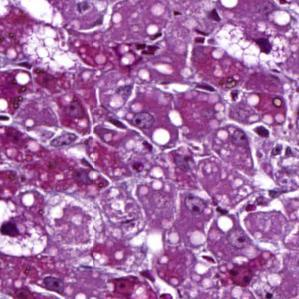ballooning: (213, 18, 293, 68), (17, 22, 79, 79), (2, 197, 49, 259)
